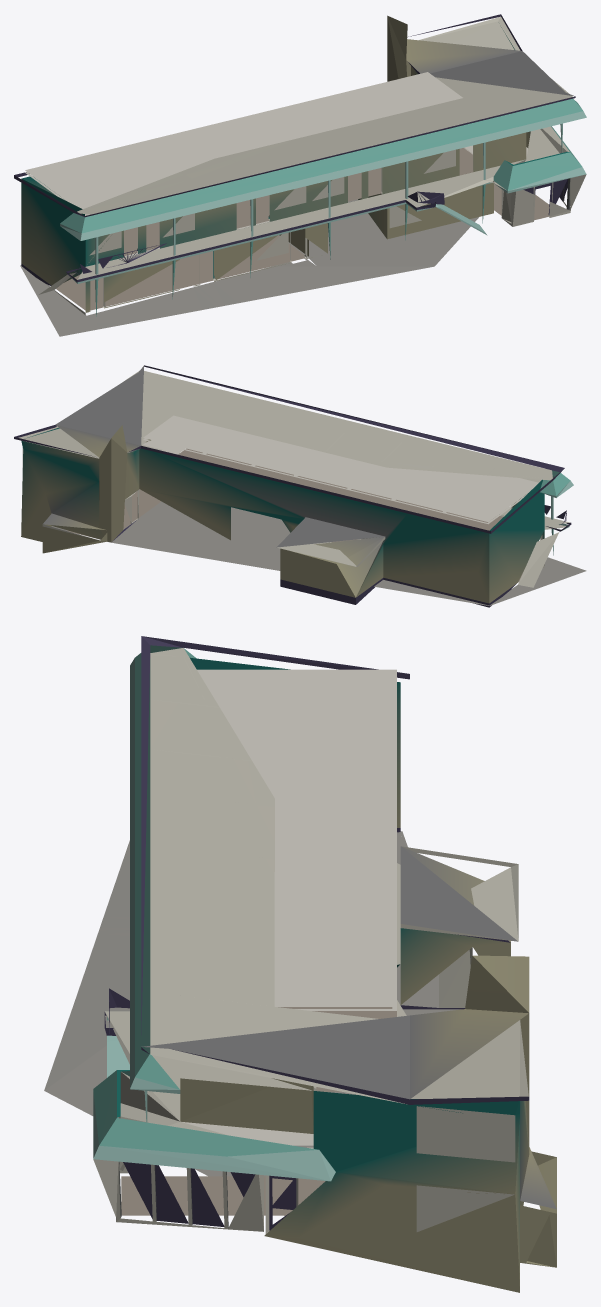
The model's file is roadside-motel.zfix-v3.lod2.glb.
3 renders of one model, top to bottom at view 1: azimuth 30°, elevation 25°; view 2: azimuth 150°, elevation 25°; view 3: azimuth 270°, elevation 25°, orthographic. The views are drawn at different scales.
Parts seen in each view (by area): view 1: Object_4; view 2: Object_4; view 3: Object_4.
Boxes of the visible parts, left/top/right/bottom form: Object_4: left=14, top=14, right=586, bottom=336; Object_4: left=14, top=365, right=586, bottom=607; Object_4: left=44, top=636, right=556, bottom=1292.
Size of the model in its own units: 36.46 by 9.34 by 17.02.
